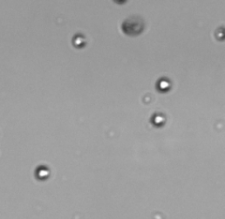Dead Cell: (122, 17, 145, 35)
Living Cell: (36, 164, 51, 179), (150, 112, 167, 125), (156, 78, 172, 90), (72, 34, 86, 47)
